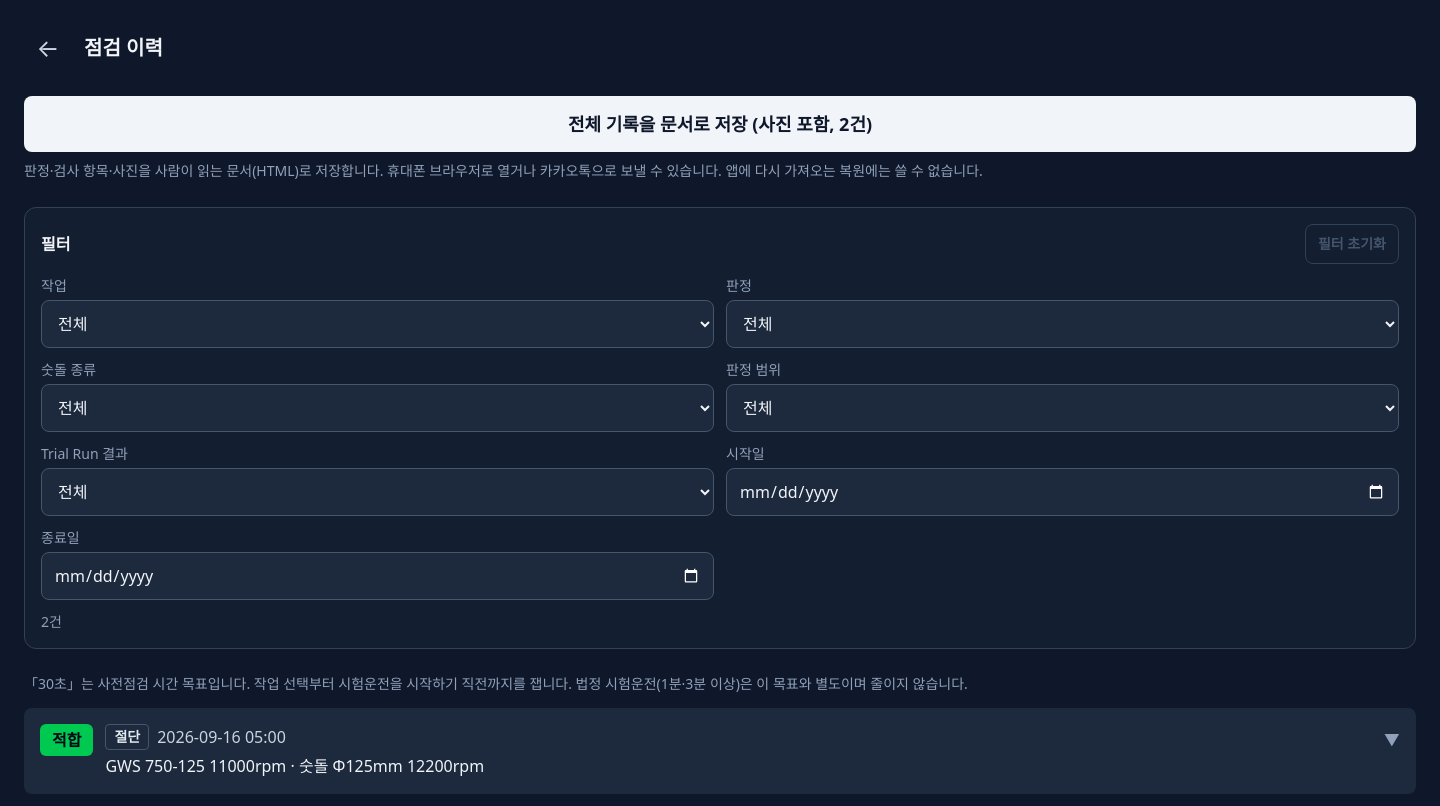
it: 이력 화면 — 필터 › 필터를 걸면 조건에 맞는 기록만 남고, 건수를 함께 보여준다
Expected: the text "2건" is shown, [41,612,62,631]
Select "연삭" in the dropdown labelled "작업" at (378, 324), box [41,300,714,348]
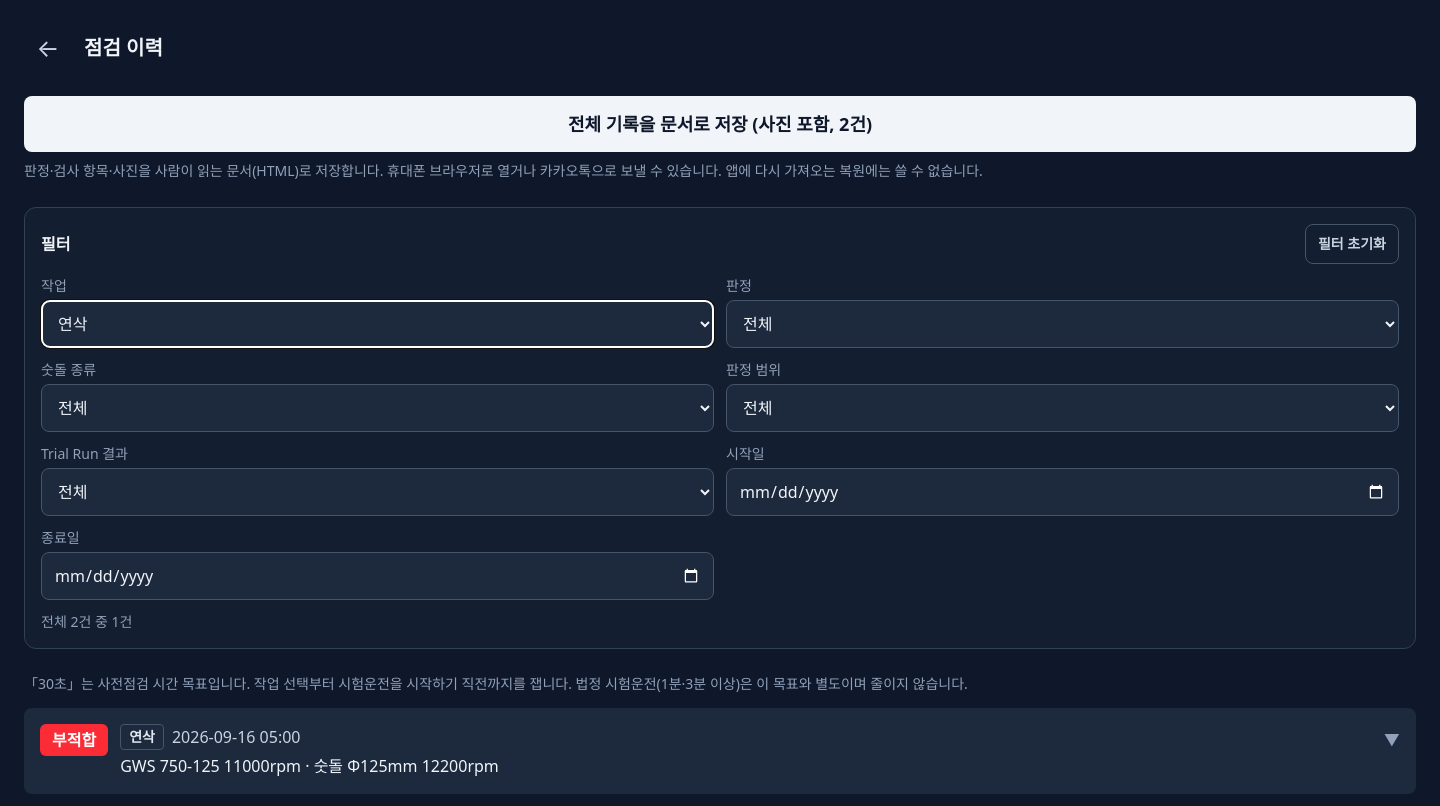
Now the number of list items is 1, box [24,708,1416,794]
Now the button "절단" is gone
Now the text "전체 2건 중 1건" is shown, box [41,612,132,631]
